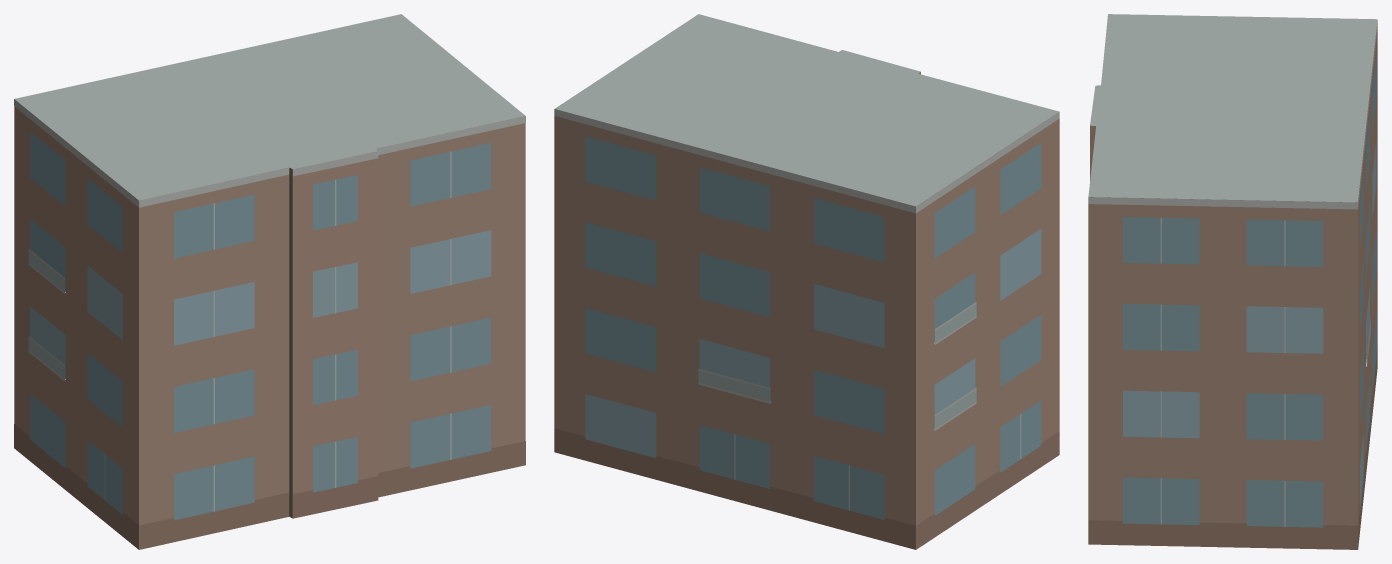
Rendered from survey-upis-32832277.glb.
3 renders of one model, left to right at view 1: azimuth 30°, elevation 25°; view 2: azimuth 150°, elevation 25°; view 3: azimuth 270°, elevation 25°, orthographic.
Visible parts, largest first — view 1: survey-upis-32832277.tmp; view 2: survey-upis-32832277.tmp; view 3: survey-upis-32832277.tmp.
Boxes of the visible parts, x1=… form: survey-upis-32832277.tmp: x1=14, y1=14, x2=525, y2=549; survey-upis-32832277.tmp: x1=554, y1=14, x2=1059, y2=549; survey-upis-32832277.tmp: x1=1088, y1=14, x2=1377, y2=549.
Bounding box in the file's own units: 14.02 × 12.05 × 9.1.
